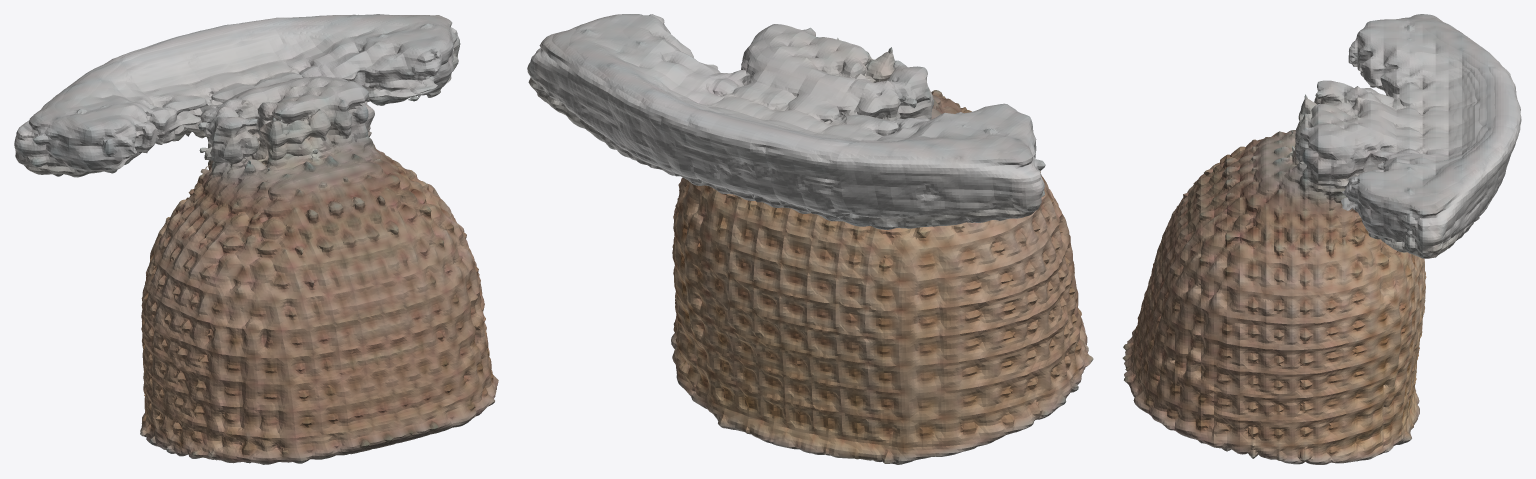
3 views of the same model, side by side, from view 1: azimuth 30°, elevation 25°; view 2: azimuth 150°, elevation 25°; view 3: azimuth 270°, elevation 25° (orthographic). The views are drawn at different scales.
Visible parts, largest first — view 1: world; view 2: world; view 3: world.
Part boxes in pixels (x1,y1,x2,y2): world: [14, 14, 498, 464]; world: [527, 14, 1093, 464]; world: [1122, 14, 1521, 464].
Size of the model in its own units: 1.04 by 0.7137 by 0.8344.
